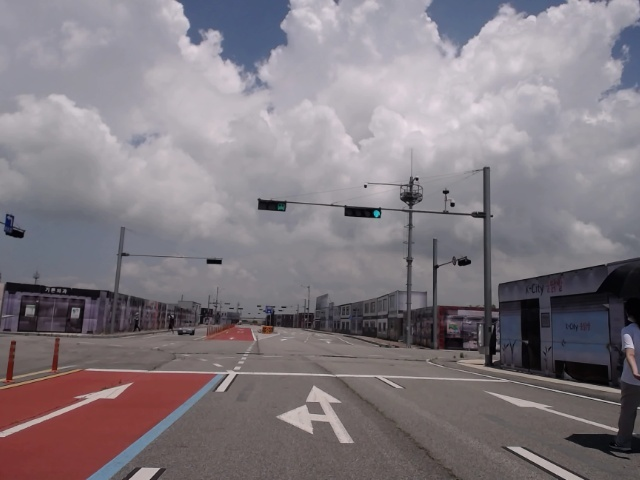straight_green_4: (345, 207, 381, 218)
